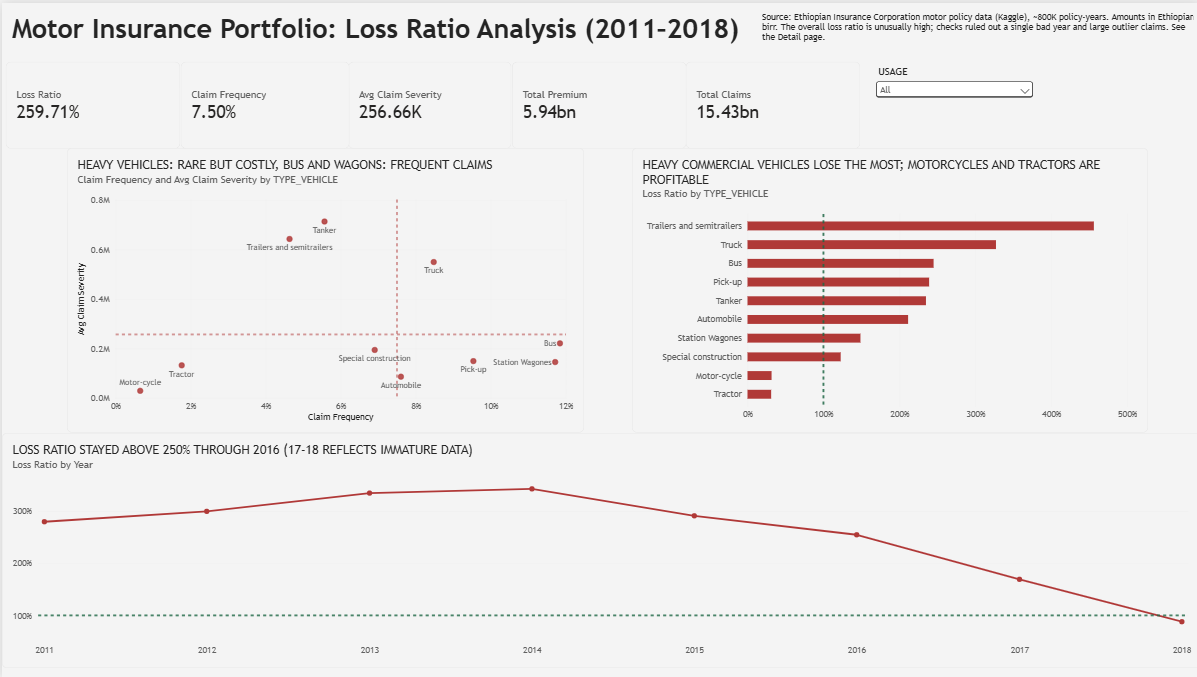

What the dashboard file says about the page in this screenshot:
{"tool":"powerbi","page":{"name":"Overview","canvas":[1920,1080],"ordinal":0},"visuals":[{"type":"cardVisual","fields":{"Data":["Policies.Loss Ratio"]},"box":[6.9,93.1,279.2,139.6],"z":0},{"type":"cardVisual","fields":{"Data":["Policies.Total Claims"]},"box":[1094.4,93.1,279.2,139.6],"z":1000},{"type":"cardVisual","fields":{"Data":["Policies.Total Premium"]},"box":[816.9,93.1,279.2,139.6],"z":2000},{"type":"clusteredBarChart","title":"HEAVY COMMERCIAL VEHICLES LOSE THE MOST; MOTORCYCLES AND TRACTORS ARE PROFITABLE","fields":{"Category":["Policies.TYPE_VEHICLE"],"Y":["Policies.Loss Ratio"]},"box":[1008.3,232.7,825.6,455],"z":3000},{"type":"scatterChart","title":"HEAVY VEHICLES: RARE BUT COSTLY, BUS AND WAGONS: FREQUENT CLAIMS","fields":{"Category":["Policies.TYPE_VEHICLE"],"X":["Policies.Claim Frequency"],"Y":["Policies.Avg Claim Severity"]},"box":[103.4,232.7,827.3,455],"z":4000},{"type":"cardVisual","fields":{"Data":["Policies.Avg Claim Severity"]},"box":[555,93.1,262,139.6],"z":5000},{"type":"cardVisual","fields":{"Data":["Policies.Claim Frequency"]},"box":[286.1,93.1,270.6,139.6],"z":6000},{"type":"lineChart","title":"LOSS RATIO STAYED ABOVE 250% THROUGH 2016 (17-18 REFLECTS IMMATURE DATA)","fields":{"Category":["Policies.Policy Start.Variation.Date Hierarchy.Year"],"Y":["Policies.Loss Ratio"]},"box":[0,687.7,1920,375.7],"z":7000},{"type":"slicer","fields":{"Values":["Policies.USAGE"]},"box":[1394.3,100,260.3,63.8],"z":8000},{"type":"textbox","box":[15.5,15.5,1277.1,72.4],"z":9000},{"type":"textbox","box":[1215.1,13.8,704.9,86.2],"z":9001}]}

Visuals, with their boxes in screenshot pixels (x1, y1, x2, y2), scaled from the page's 1920x1080 canvas onto the 1197x677 screenshot:
cardVisual - Policies.Loss Ratio: crop(4, 58, 178, 146)
cardVisual - Policies.Total Claims: crop(682, 58, 856, 146)
cardVisual - Policies.Total Premium: crop(509, 58, 683, 146)
"HEAVY COMMERCIAL VEHICLES LOSE THE MOST; MOTORCYCLES AND TRACTORS ARE PROFITABLE" clusteredBarChart: crop(629, 146, 1143, 431)
"HEAVY VEHICLES: RARE BUT COSTLY, BUS AND WAGONS: FREQUENT CLAIMS" scatterChart: crop(64, 146, 580, 431)
cardVisual - Policies.Avg Claim Severity: crop(346, 58, 509, 146)
cardVisual - Policies.Claim Frequency: crop(178, 58, 347, 146)
"LOSS RATIO STAYED ABOVE 250% THROUGH 2016 (17-18 REFLECTS IMMATURE DATA)" lineChart: crop(0, 431, 1196, 667)
slicer - Policies.USAGE: crop(869, 63, 1032, 103)
textbox: crop(10, 10, 806, 55)
textbox: crop(758, 9, 1196, 63)
